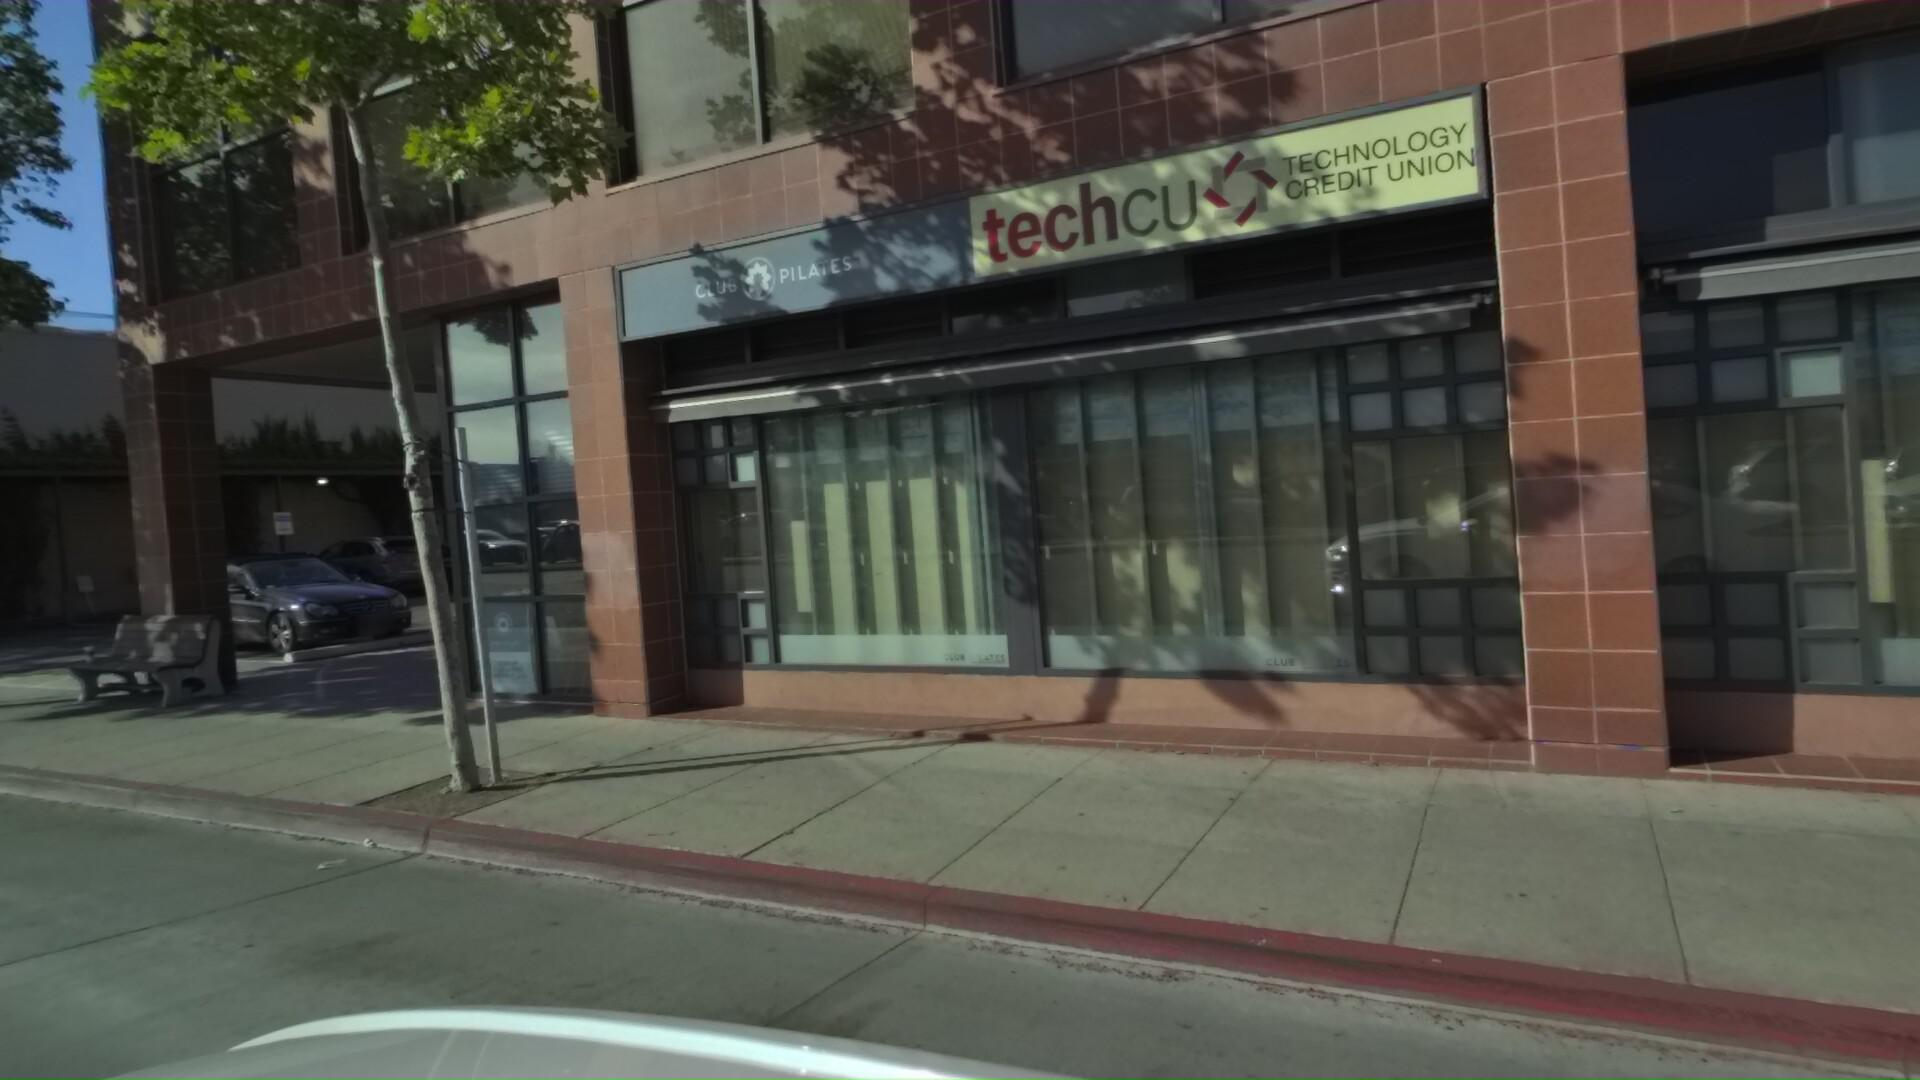car: (141, 537, 462, 669), (0, 560, 21, 659)
